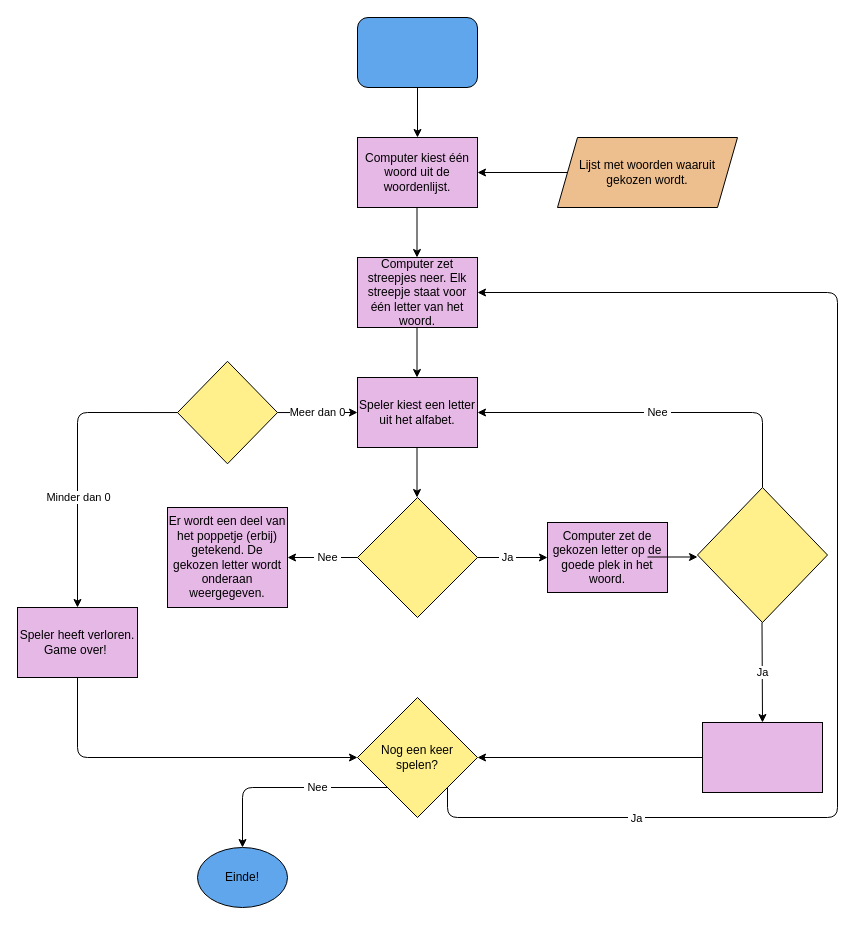
Some shapes in this 863 by 925 pixel diagram are drawn without their labels. Here are the shapes that lost their labels. From the top down, the centre of each, then its label:
(x=417, y=52): Start
(x=227, y=412): Hoeveel "levens" over?
(x=417, y=557): Is de letter goed?
(x=762, y=554): Zijn alle letters geraden? En dus het woord compleet?
(x=762, y=757): Speler heeft gewonnen!!
